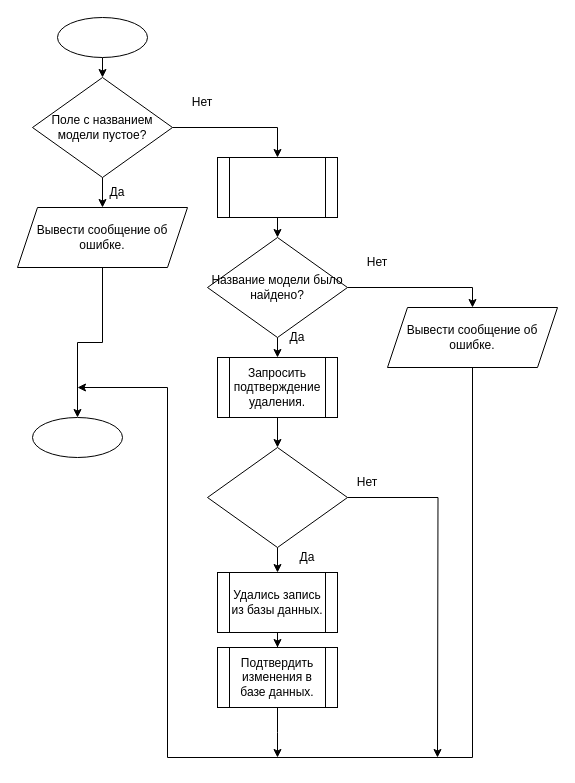
Some shapes in this 575 by 783 pixel diagram are drawn without their labels. The centre of each missing label's shape, as x and y in pixels:
Конец: pixel 77 437
Найти в базе данных модель с введенным названием.: pixel 277 187
Начало: pixel 102 37
Удаление было подтверждено?: pixel 277 497
